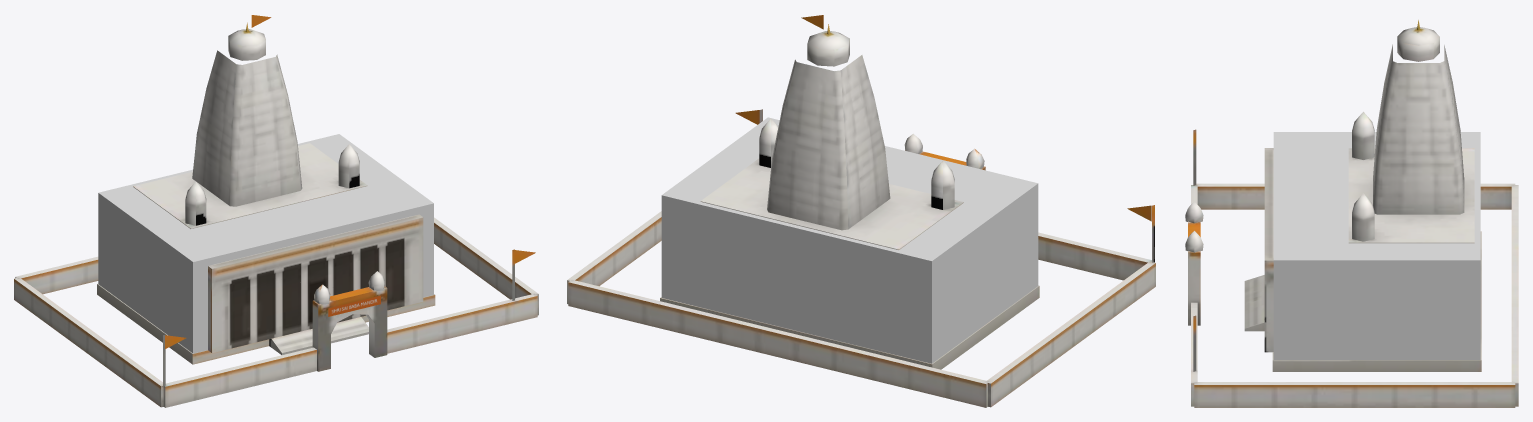
The model's file is dilsukhnagar_sai_temple.glb.
The picture shows the model from 3 angles, left to right: view 1: azimuth 30°, elevation 25°; view 2: azimuth 150°, elevation 25°; view 3: azimuth 270°, elevation 25°; orthographic projection. The views are drawn at different scales.
Parts seen in each view (by area): view 1: dilsukhnagar_sai_temple_body, COL_sai, sai_board; view 2: dilsukhnagar_sai_temple_body, COL_sai; view 3: dilsukhnagar_sai_temple_body, COL_sai.
Part boxes in pixels (bbox=[...]): dilsukhnagar_sai_temple_body: bbox=[14, 15, 538, 407]; COL_sai: bbox=[98, 134, 433, 353]; sai_board: bbox=[328, 295, 380, 316]; dilsukhnagar_sai_temple_body: bbox=[567, 15, 1155, 407]; COL_sai: bbox=[661, 117, 1038, 363]; dilsukhnagar_sai_temple_body: bbox=[1185, 20, 1518, 407]; COL_sai: bbox=[1273, 132, 1480, 359].
Bounding box in the file's own units: 69 × 47.25 × 48.45.
3 materials, 2 textured.
